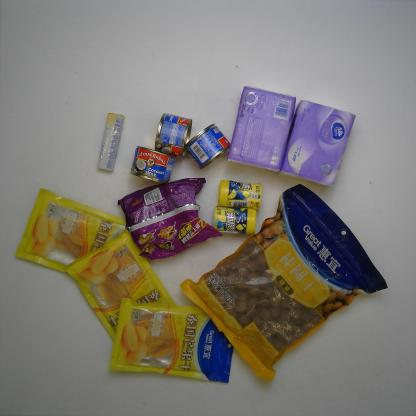Candy: (97, 112, 125, 174)
Canned Food: (186, 121, 230, 170), (154, 113, 192, 160), (129, 146, 175, 184)
Dried Food: (177, 183, 390, 384)
Dried Fruit: (64, 226, 182, 340), (105, 294, 238, 384), (13, 186, 128, 274)
Gum: (212, 206, 257, 236), (218, 180, 262, 208)
Instant Noodles: (118, 177, 222, 260)
Tissue: (282, 99, 358, 188), (229, 84, 294, 172)
